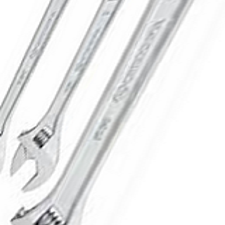wrench: (4, 1, 84, 194)
